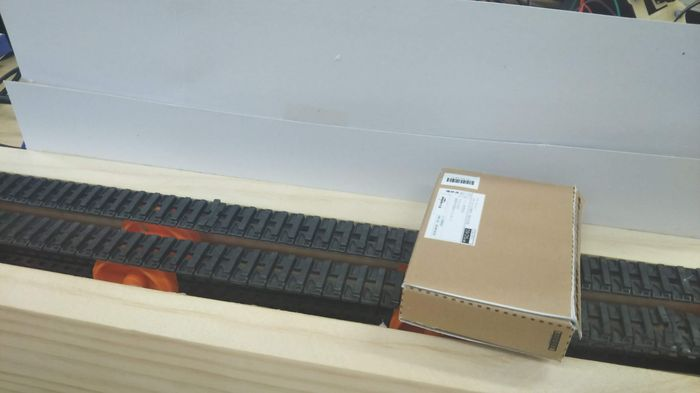box2: (397, 162, 587, 367)
